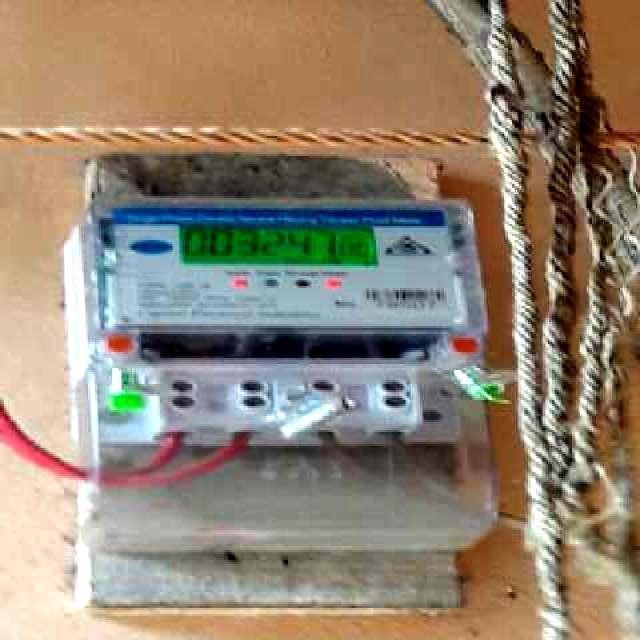LCD: (176, 215, 390, 275)
